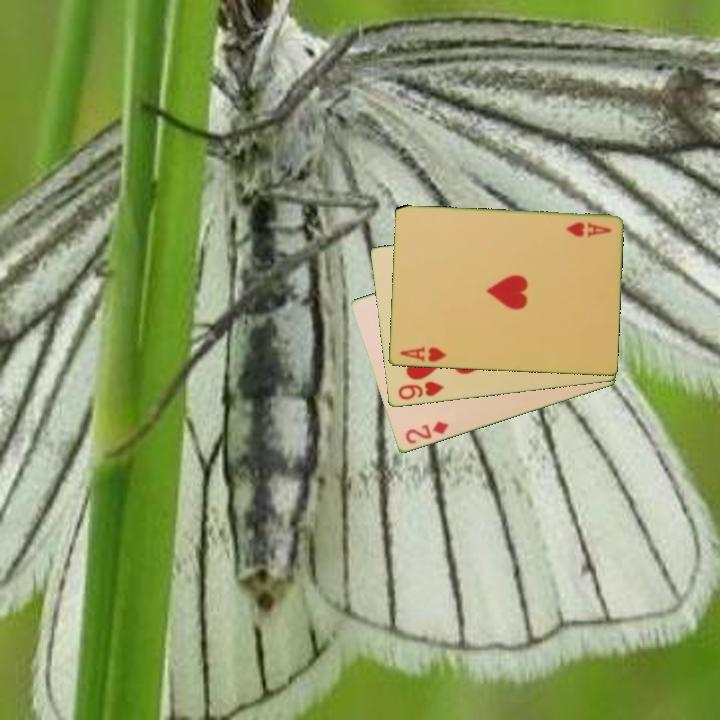2d: (402, 418, 451, 447)
9h: (394, 378, 446, 403)
Ah: (397, 343, 449, 365), (562, 219, 614, 239)
